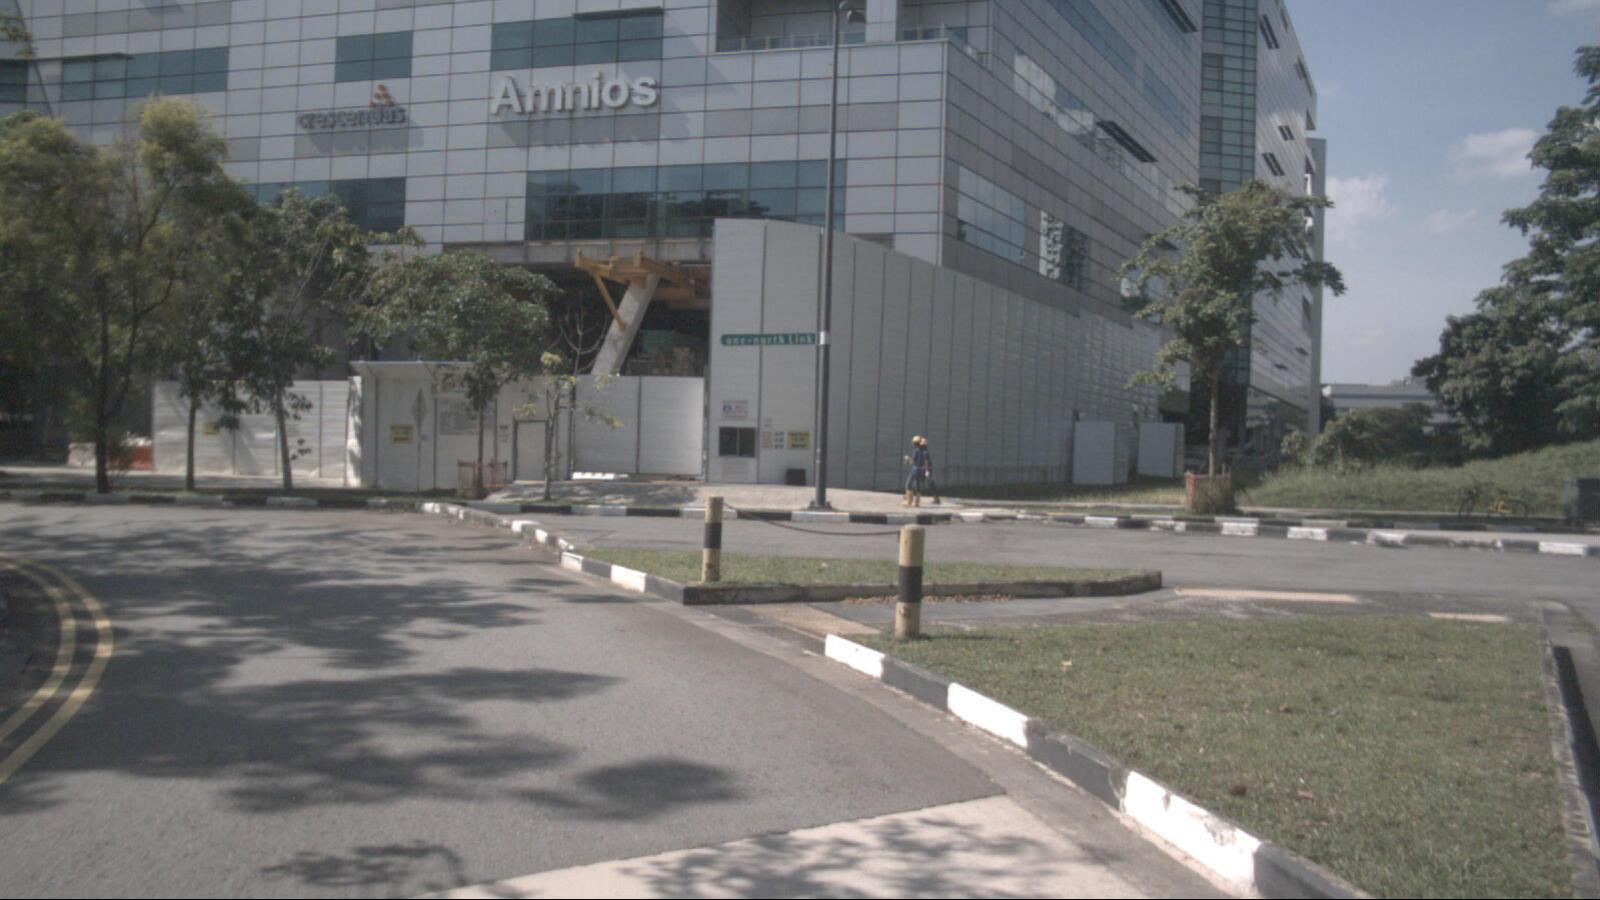human.pedestrian.construction_worker-pedestrian.moving: (909, 438, 940, 507), (900, 437, 928, 510)
